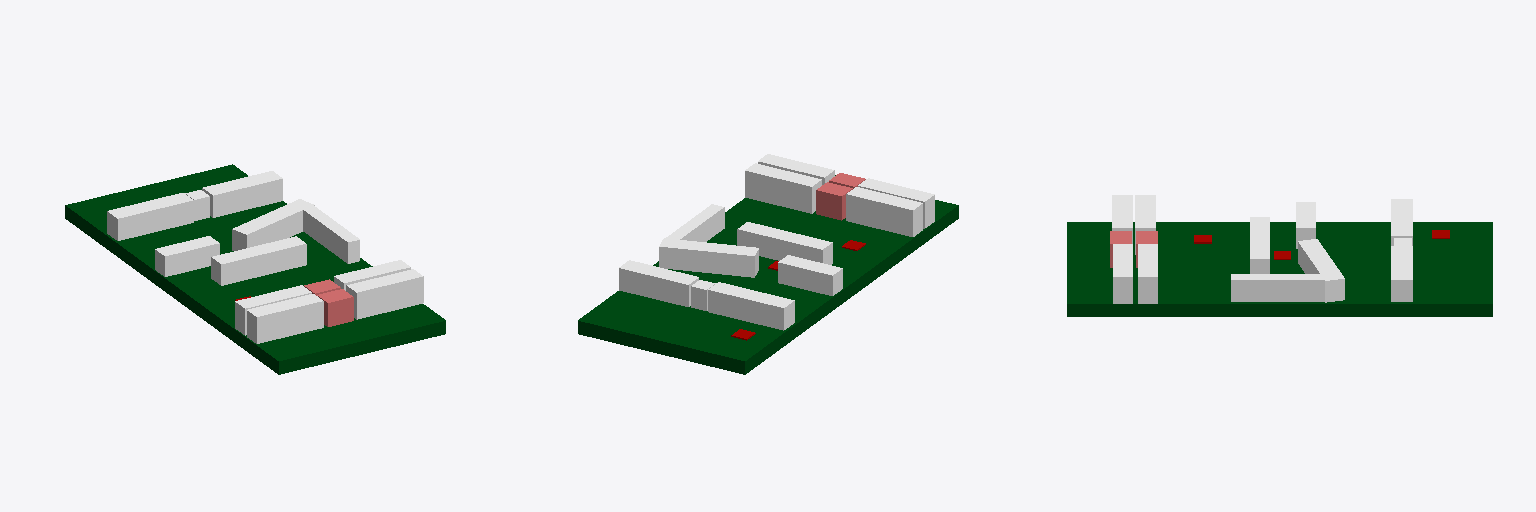
The model's file is level1player1.obj.
The picture shows the model from 3 angles: view 1: azimuth 30°, elevation 25°; view 2: azimuth 150°, elevation 25°; view 3: azimuth 270°, elevation 25°; orthographic projection.
Visible parts, largest first — view 1: Floor, Cube, Cube (2), Cube (4), Cube (8), Cube (7), Cube (1), Cube (3), Cube (6), Connected Door 2-1, Cube (5); view 2: Floor, Cube, Cube (4), Cube (6), Cube (5), Cube (2), Cube (1), Cube (3), Cube (8), Connected Door 1-1, Cube (7); view 3: Floor, Cube, Cube (3), Cube (7), Cube (5), Cube (2), Cube (4), Cube (6), Cube (1), Cube (8).
Boxes of the visible parts, <box> form: Floor: <box>65,164,445,374</box>; Cube: <box>202,171,314,250</box>; Cube (2): <box>211,236,306,285</box>; Cube (4): <box>107,193,193,240</box>; Cube (8): <box>247,294,323,343</box>; Cube (7): <box>346,269,423,319</box>; Cube (1): <box>155,236,219,276</box>; Cube (3): <box>303,205,359,263</box>; Cube (6): <box>235,285,311,335</box>; Connected Door 2-1: <box>317,289,353,326</box>; Cube (5): <box>334,260,410,290</box>; Floor: <box>578,175,958,374</box>; Cube: <box>619,238,758,306</box>; Cube (4): <box>708,282,794,330</box>; Cube (6): <box>846,187,922,236</box>; Cube (5): <box>745,163,821,213</box>; Cube (2): <box>737,222,832,264</box>; Cube (1): <box>778,255,842,295</box>; Cube (3): <box>666,204,724,241</box>; Cube (8): <box>858,178,934,228</box>; Connected Door 1-1: <box>816,182,852,220</box>; Cube (7): <box>758,154,834,184</box>; Floor: <box>1067,222,1492,316</box>; Cube: <box>1298,239,1412,302</box>; Cube (3): <box>1231,274,1324,301</box>; Cube (7): <box>1113,244,1132,303</box>; Cube (5): <box>1138,244,1157,303</box>; Cube (2): <box>1250,217,1269,273</box>; Cube (4): <box>1391,199,1412,245</box>; Cube (6): <box>1135,195,1155,254</box>; Cube (1): <box>1296,202,1315,248</box>; Cube (8): <box>1112,195,1132,243</box>.
Bounding box in the file's own units: 6.51 × 1.51 × 14.33.